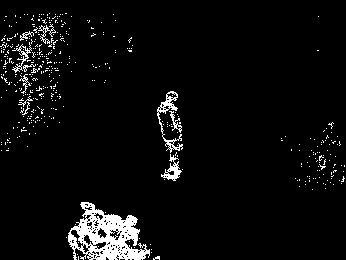person: (154, 89, 187, 184)
